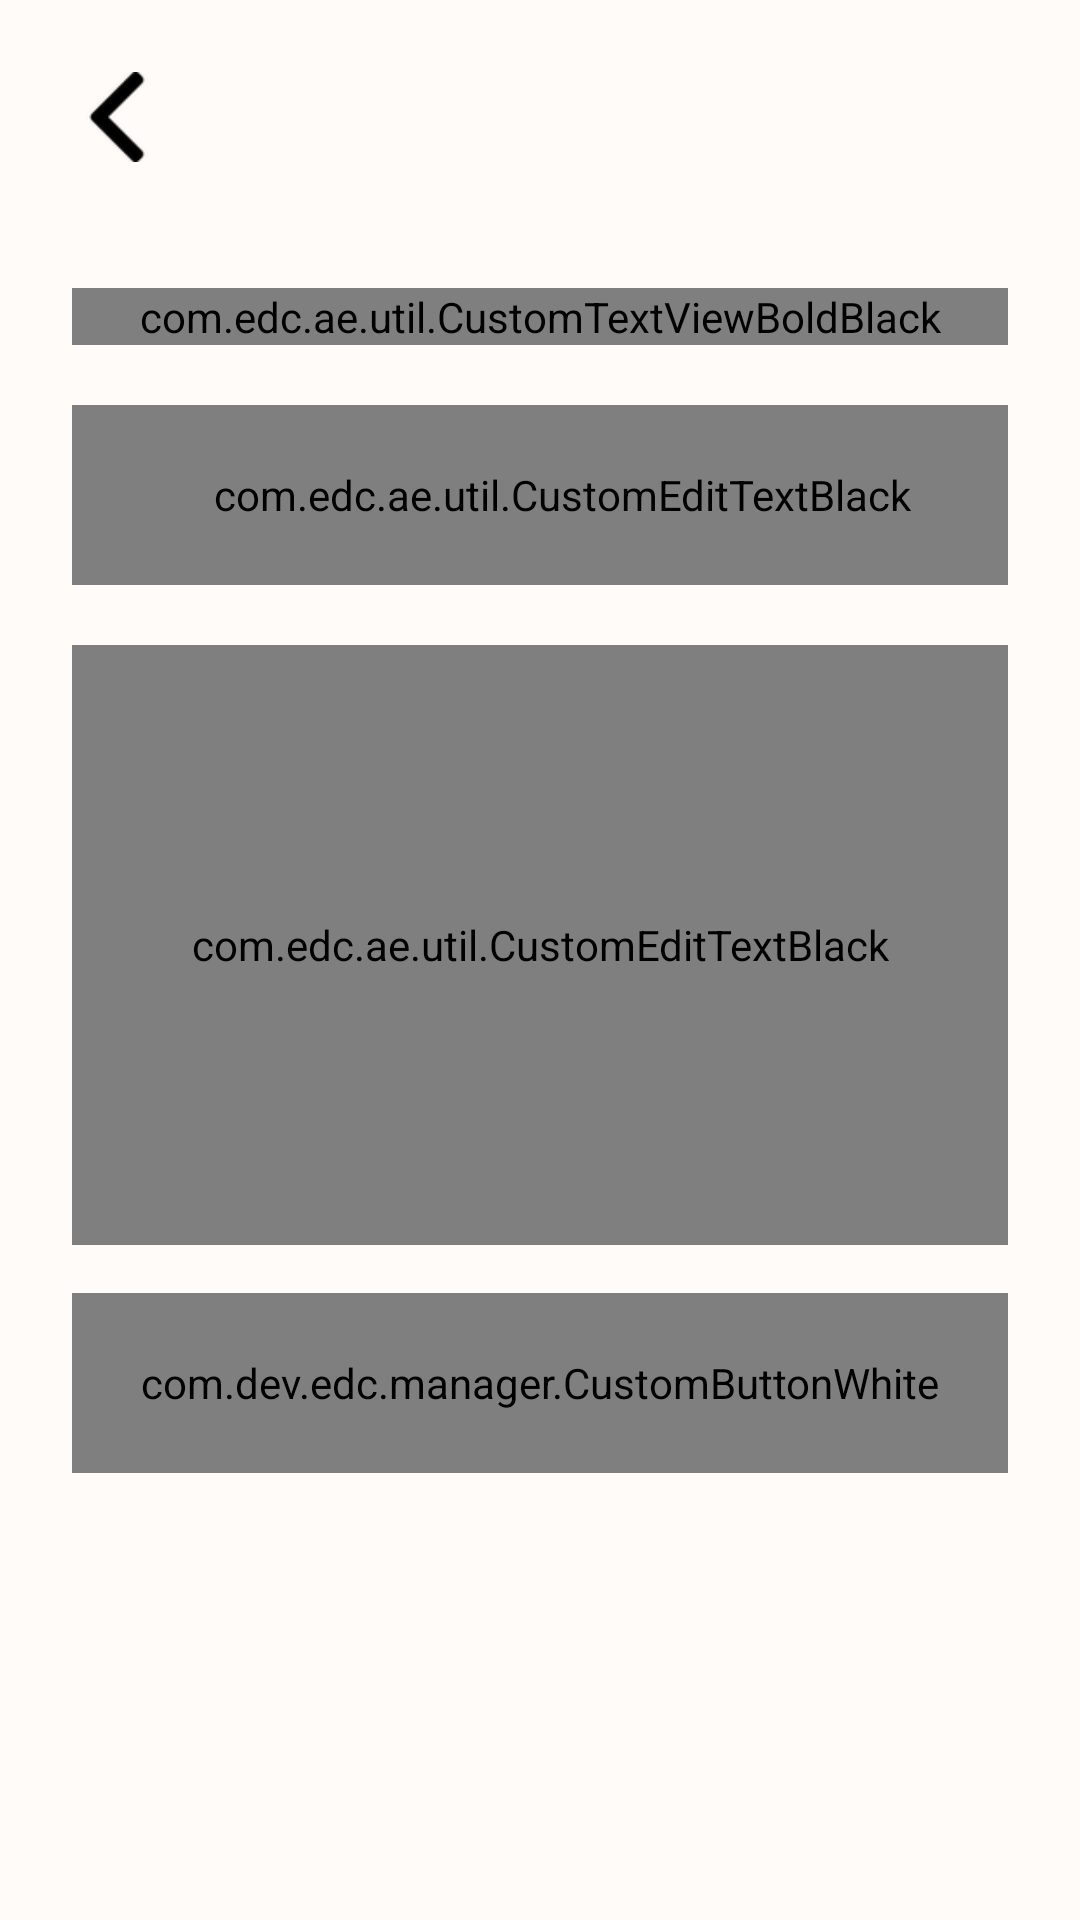

Locate icon controls on the screen. Image size 1080×1920, boxes as (x1, y1, x2, y2).
back: (89, 72, 145, 162)
